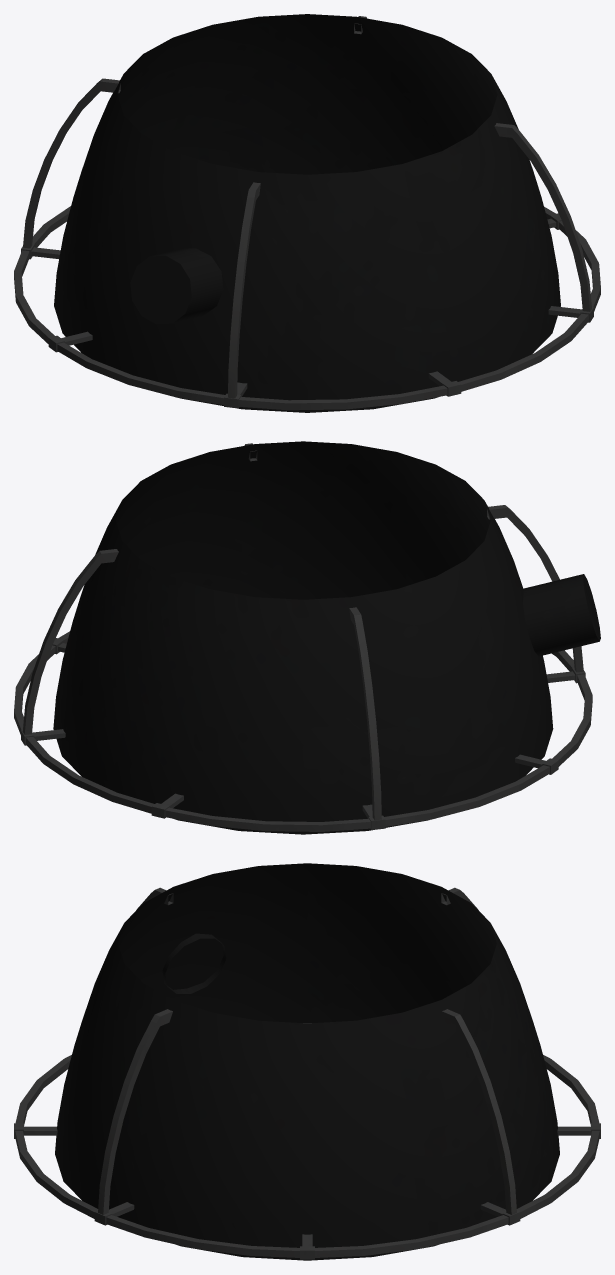
File: adapter.fbx
The picture shows the model from 3 angles, top to bottom: view 1: azimuth 30°, elevation 25°; view 2: azimuth 150°, elevation 25°; view 3: azimuth 270°, elevation 25°; orthographic projection.
Visible parts, largest first — view 1: adapter; view 2: adapter; view 3: adapter.
Part boxes in pixels (x1,y1,x2,y2): adapter: [14, 14, 600, 412]; adapter: [14, 441, 600, 834]; adapter: [14, 863, 600, 1260].
Size of what is drawn, in the model's own units: 1.45 by 0.575 by 1.45.
